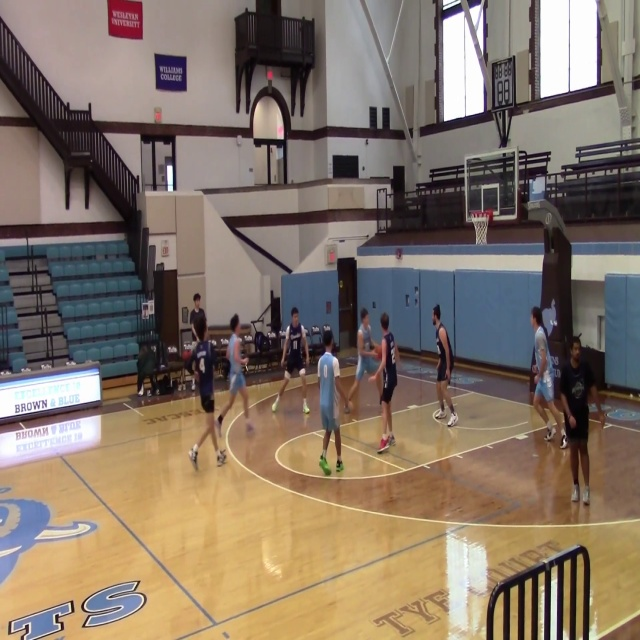Basketball: (373, 345, 382, 360), (245, 422, 254, 434), (182, 349, 191, 360), (299, 368, 306, 376)
